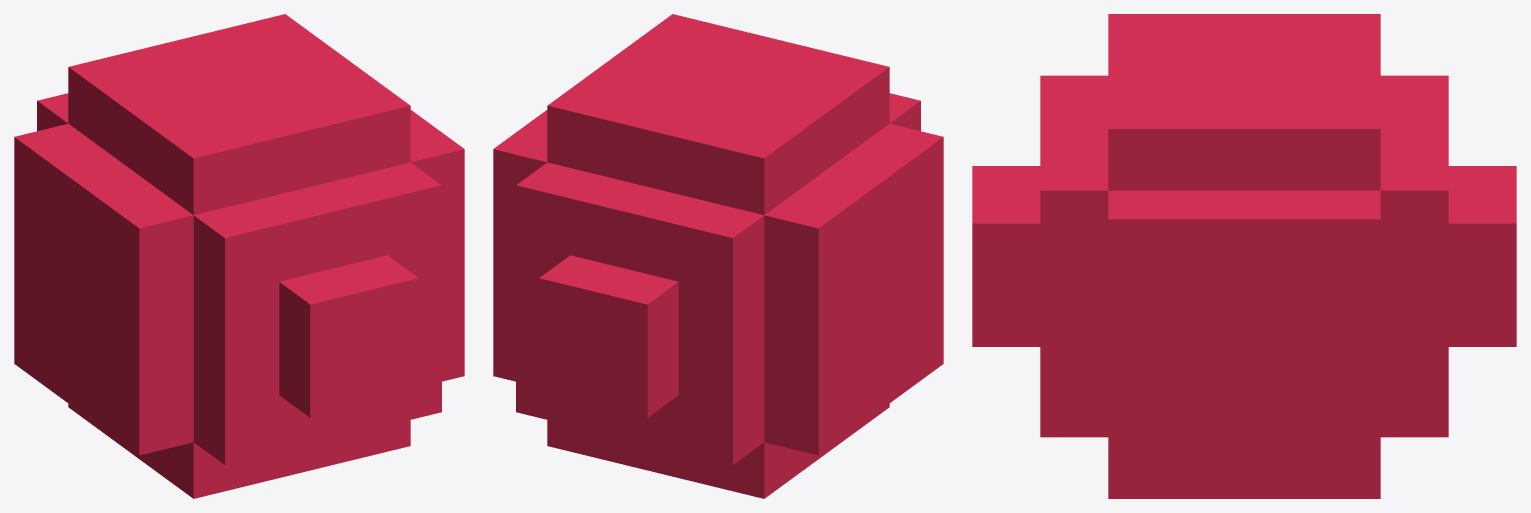
The model's file is orbred.glb.
3 renders of one model, left to right at view 1: azimuth 30°, elevation 25°; view 2: azimuth 150°, elevation 25°; view 3: azimuth 270°, elevation 25°, orthographic. The views are drawn at different scales.
Parts seen in each view (by area): view 1: generated(Clone); view 2: generated(Clone); view 3: generated(Clone).
Part boxes in pixels (x1,y1,x2,y2): generated(Clone): (14, 14, 464, 498); generated(Clone): (493, 14, 943, 498); generated(Clone): (972, 14, 1516, 498).
Bounding box in the file's own units: 6 × 6 × 8.
